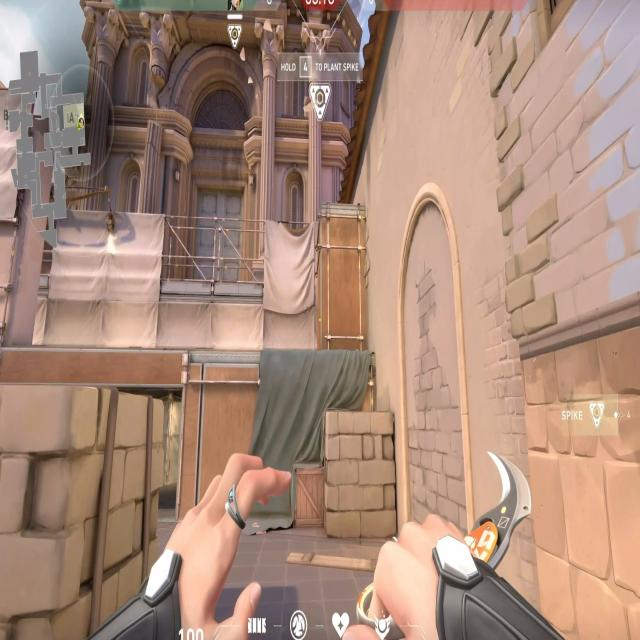A_Heaven_Box: (318, 204, 368, 348)
